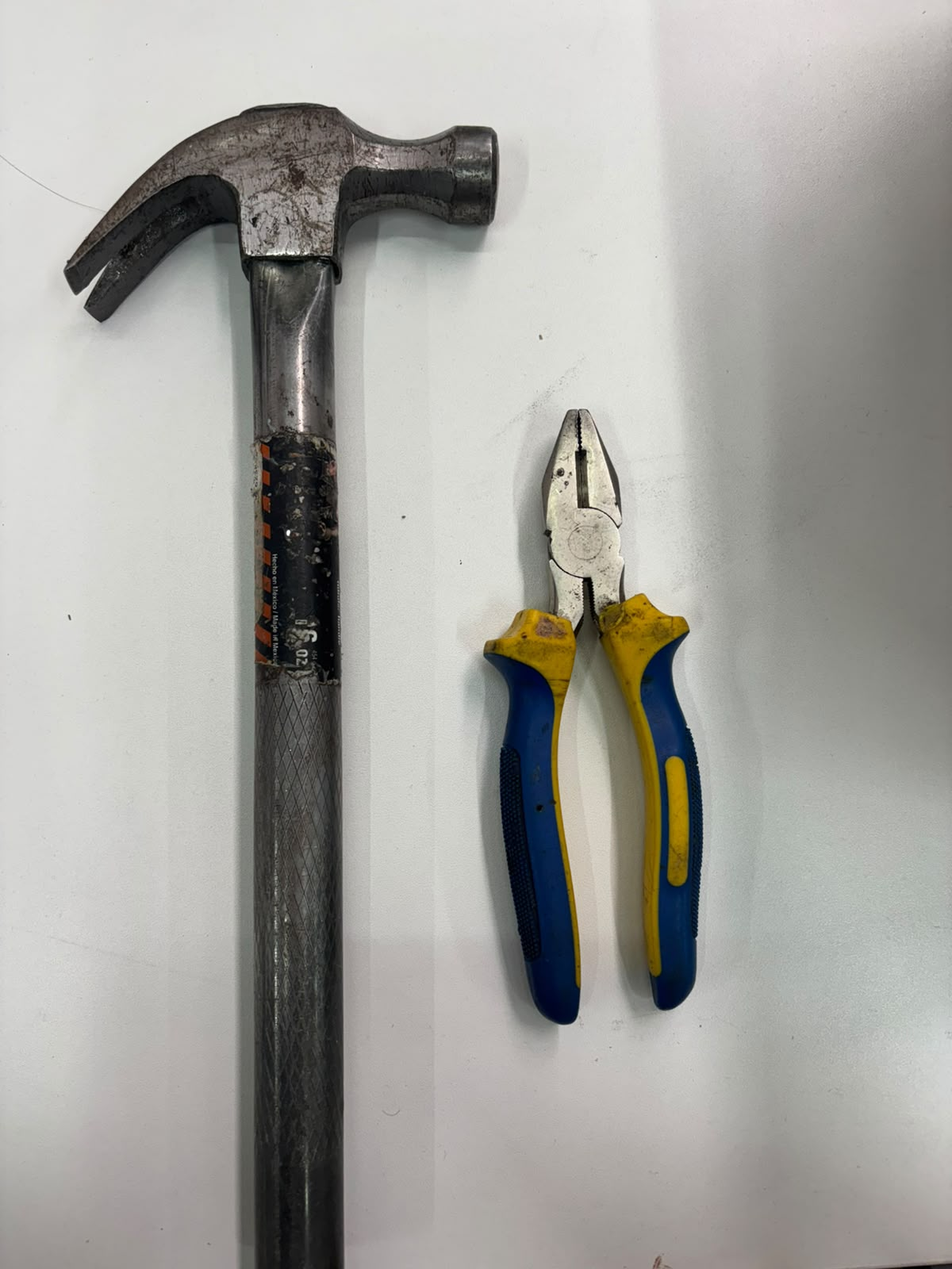hammer: (56, 25, 493, 1269)
plier: (482, 407, 722, 1018)
